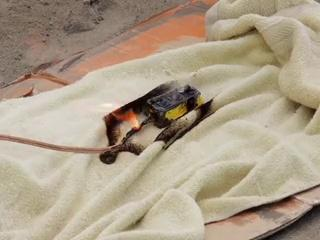Fire: (103, 104, 134, 148)
